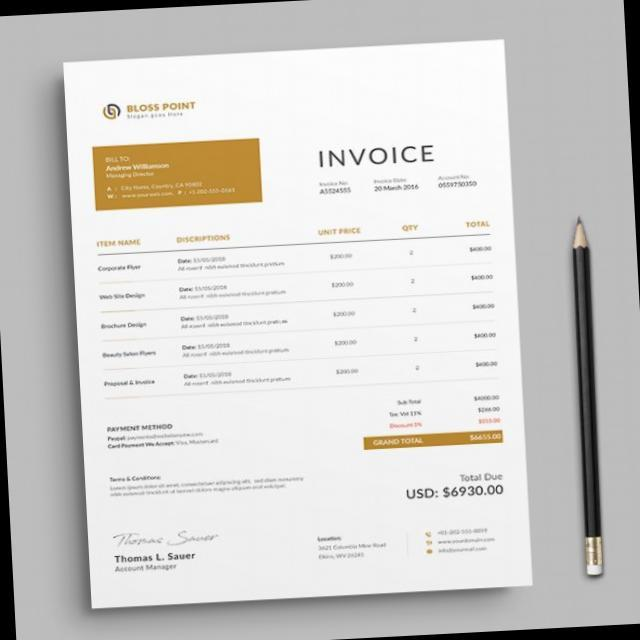customer_name: (104, 162, 175, 179)
invoice_date: (372, 184, 421, 194)
invoice_number: (318, 188, 354, 196)
invoice_subtotal: (468, 393, 502, 403)
invoice_total: (464, 431, 506, 443)
item_description: (174, 252, 294, 391)
item_quantity: (403, 247, 427, 384)
item_total_price: (463, 240, 501, 376)
item_unit_price: (324, 247, 363, 383)
supplier_address: (316, 543, 394, 561)
supplier_name: (125, 101, 201, 121)
tax_amount: (474, 404, 502, 414)
